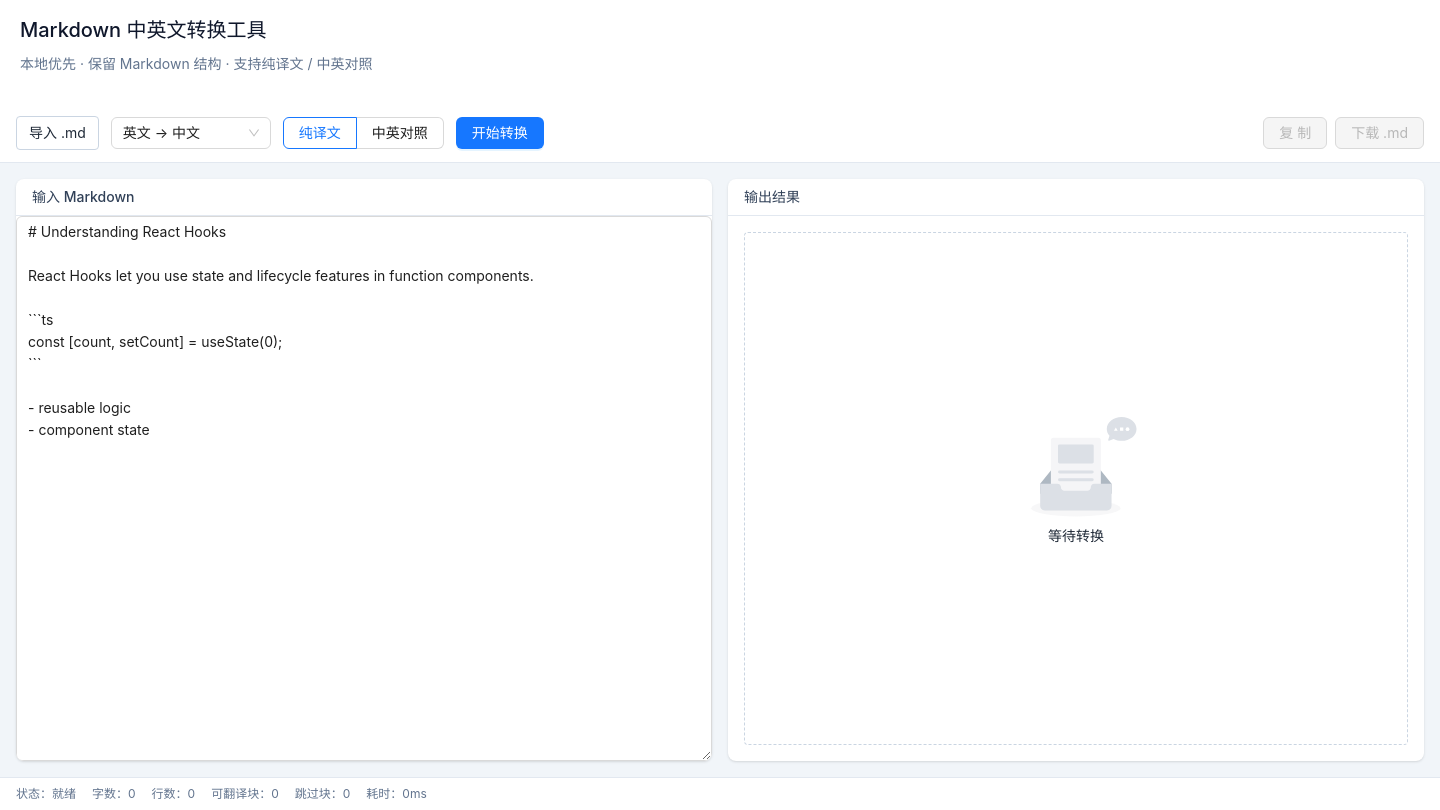
Test case: WorkspacePage (integration, real provider) › produces translation after clicking convert
Click the button "开始转换": x=500, y=133 [456,117,544,149]
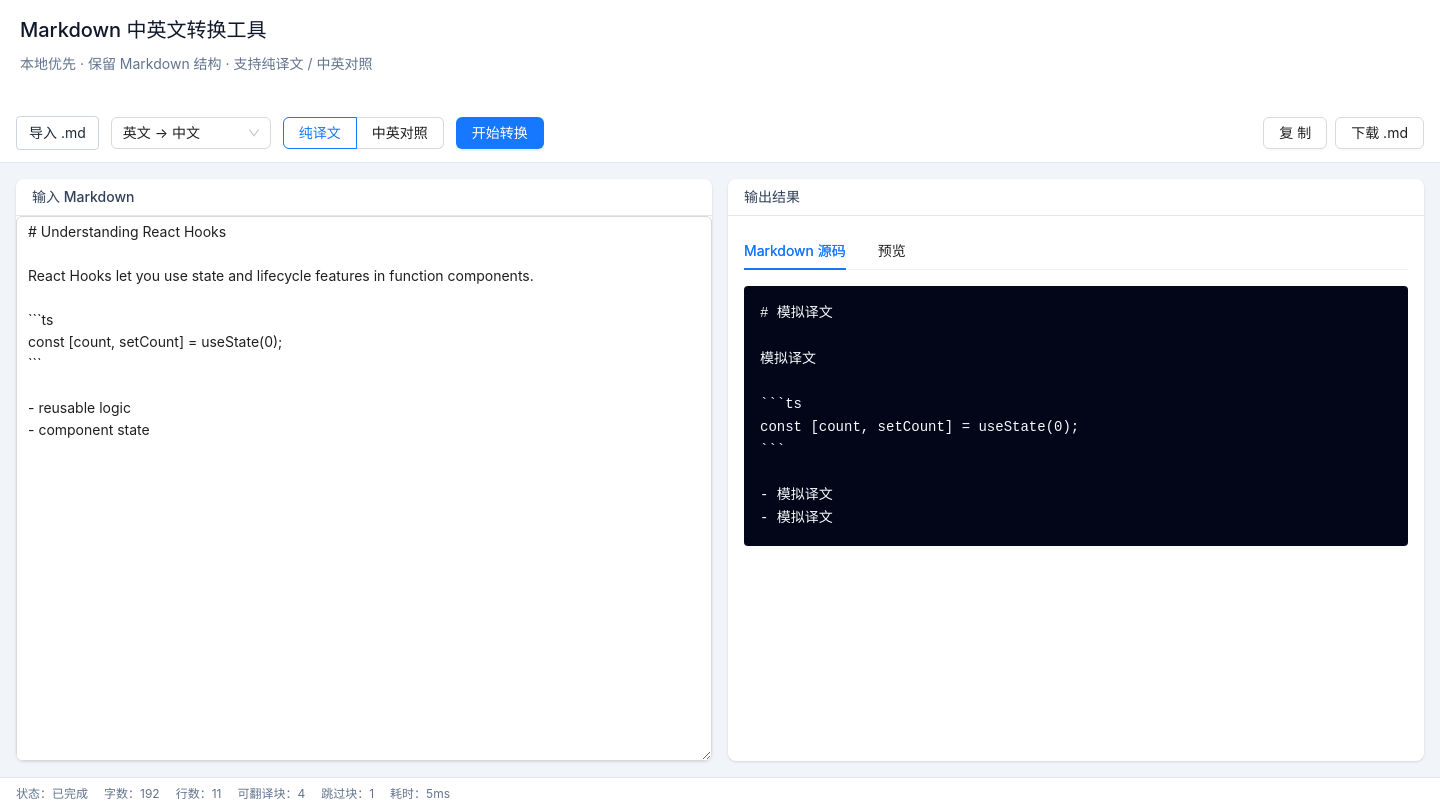
Check: the text "模拟译文" is shown, box [760,305,1079,526]
